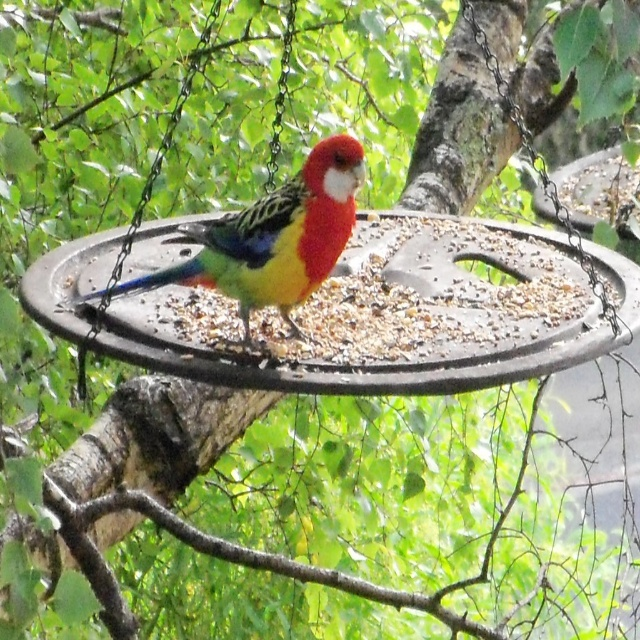Parrot: (66, 133, 368, 348)
